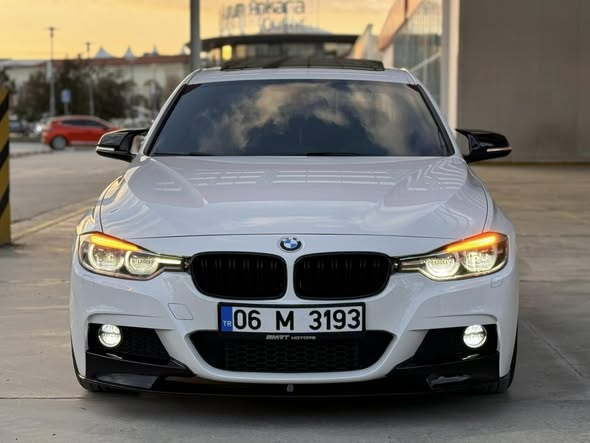plate: (220, 306, 367, 339)
